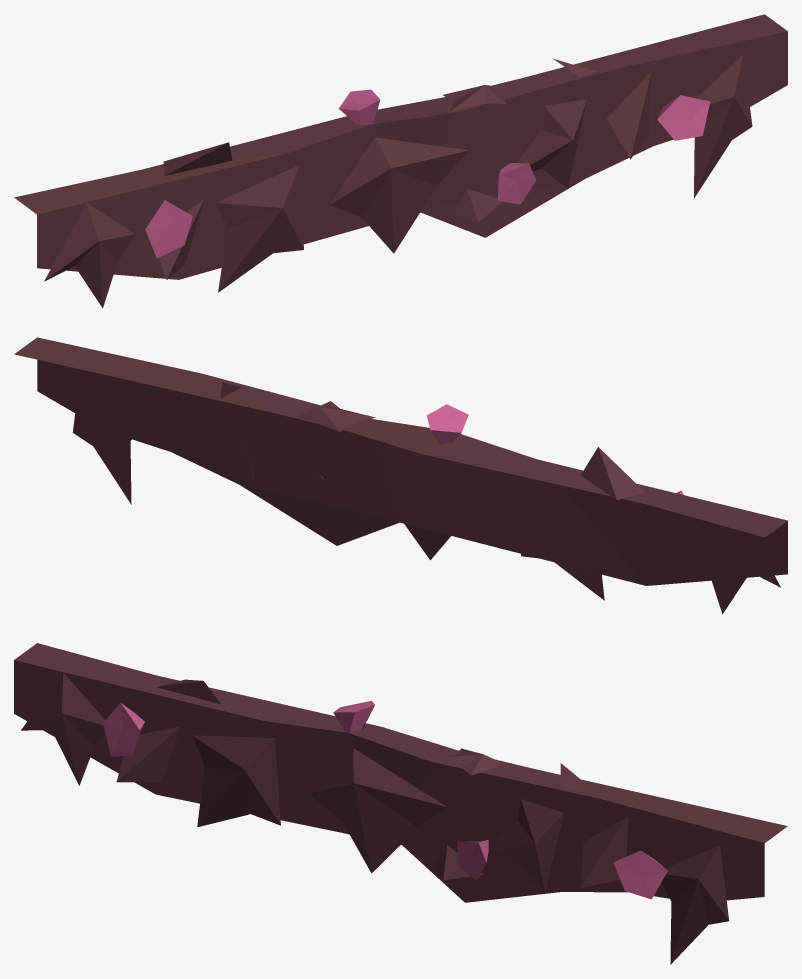
File: SM_Ivy_Small_Blossom_Empire.fbx
3 views of the same model, one above another, from view 1: azimuth 30°, elevation 25°; view 2: azimuth 150°, elevation 25°; view 3: azimuth 330°, elevation 25° (orthographic).
Parts seen in each view (by area): view 1: SM_Ivy_Small_Blossom_Empire; view 2: SM_Ivy_Small_Blossom_Empire; view 3: SM_Ivy_Small_Blossom_Empire.
Boxes of the visible parts, x1,y1,x2,y2 form: SM_Ivy_Small_Blossom_Empire: [14, 14, 787, 308]; SM_Ivy_Small_Blossom_Empire: [14, 337, 787, 614]; SM_Ivy_Small_Blossom_Empire: [14, 643, 787, 964].
Size of the model in its own units: 3 by 0.6753 by 0.2661.
